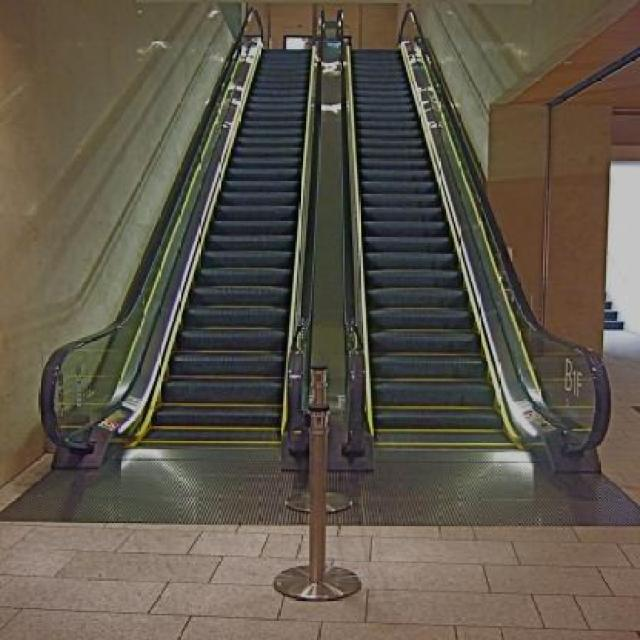stair: (128, 45, 317, 449), (350, 49, 518, 446), (605, 291, 626, 331)
